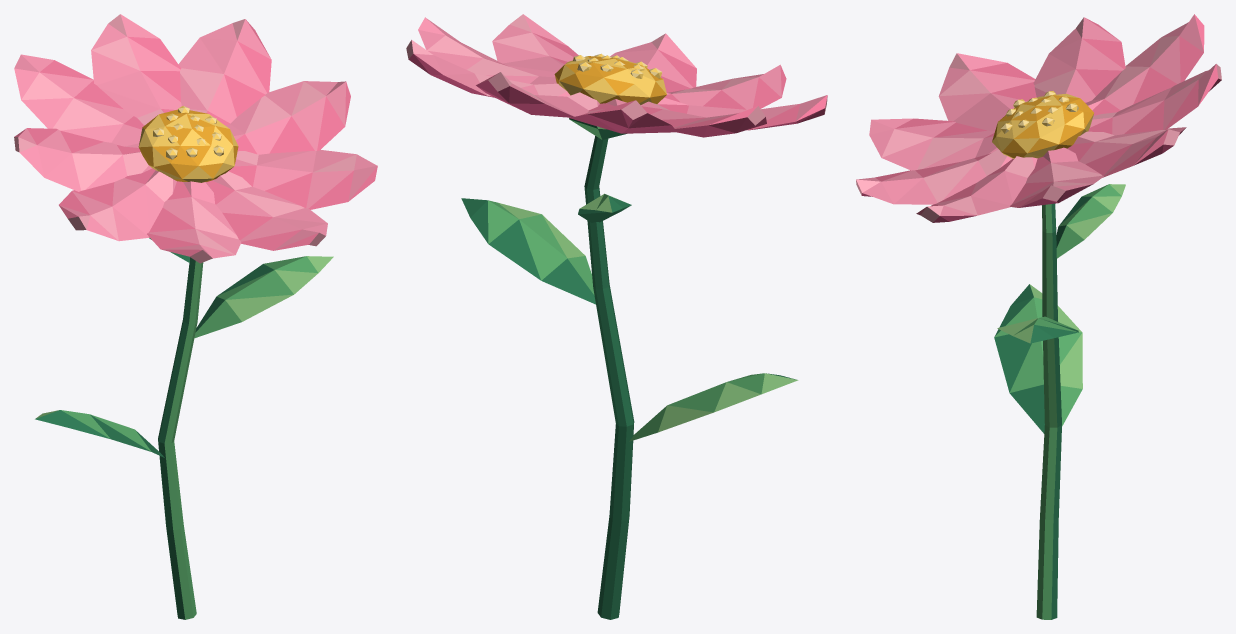
The model's file is LowPolyFlower.fbx.
3 renders of one model, left to right at view 1: azimuth 30°, elevation 25°; view 2: azimuth 150°, elevation 25°; view 3: azimuth 270°, elevation 25°, orthographic. The views are drawn at different scales.
Parts seen in each view (by area): view 1: Petal 02, Petal 01, Petal 04, Petal 03, Petal 09, Stem - curved, 7 sides, Petal 05, Petal 08, Petal 06, Flower center - golden dome, Petal 07, Leaf - right (+1 smaller); view 2: Stem - curved, 7 sides, Leaf - right, Flower center - golden dome, Leaf - left, Petal 09, Petal 07, Petal 01, Petal 03, Petal 08, Petal 05, Petal 02, Petal 04 (+2 smaller); view 3: Stem - curved, 7 sides, Leaf - left, Petal 06, Petal 07, Petal 04, Petal 05, Flower center - golden dome, Petal 08, Petal 03, Petal 09, Petal 02, Petal 01 (+2 smaller).
Boxes of the visible parts, x1,y1,x2,y2 form: Petal 02: [178, 19, 271, 125]; Petal 01: [225, 81, 350, 154]; Petal 04: [14, 54, 144, 147]; Petal 03: [91, 14, 181, 125]; Petal 09: [228, 149, 377, 209]; Stem - curved, 7 sides: [158, 257, 203, 619]; Petal 05: [14, 128, 152, 191]; Petal 08: [206, 171, 327, 250]; Petal 06: [59, 168, 176, 241]; Flower center - golden dome: [138, 109, 238, 182]; Petal 07: [147, 181, 241, 263]; Leaf - right: [194, 256, 333, 338]; Stem - curved, 7 sides: [584, 136, 634, 619]; Leaf - right: [461, 198, 595, 304]; Flower center - golden dome: [554, 56, 666, 104]; Leaf - left: [629, 373, 798, 441]; Petal 09: [492, 14, 578, 77]; Petal 07: [664, 64, 786, 109]; Petal 01: [418, 17, 556, 84]; Petal 03: [476, 72, 599, 117]; Petal 08: [610, 33, 696, 92]; Petal 05: [641, 101, 766, 137]; Petal 02: [406, 40, 569, 97]; Petal 04: [569, 99, 676, 133]; Stem - curved, 7 sides: [1036, 203, 1061, 619]; Leaf - left: [994, 284, 1082, 433]; Petal 06: [938, 53, 1036, 131]; Petal 07: [869, 118, 998, 170]; Petal 04: [1085, 14, 1204, 115]; Petal 05: [1033, 17, 1125, 102]; Flower center - golden dome: [992, 93, 1093, 158]; Petal 08: [856, 149, 1012, 204]; Petal 03: [1088, 64, 1221, 135]; Petal 09: [916, 156, 1037, 222]; Petal 02: [1067, 127, 1186, 177]; Petal 01: [1010, 147, 1103, 207].
Bounding box in the file's own units: 235 × 376 × 222.
